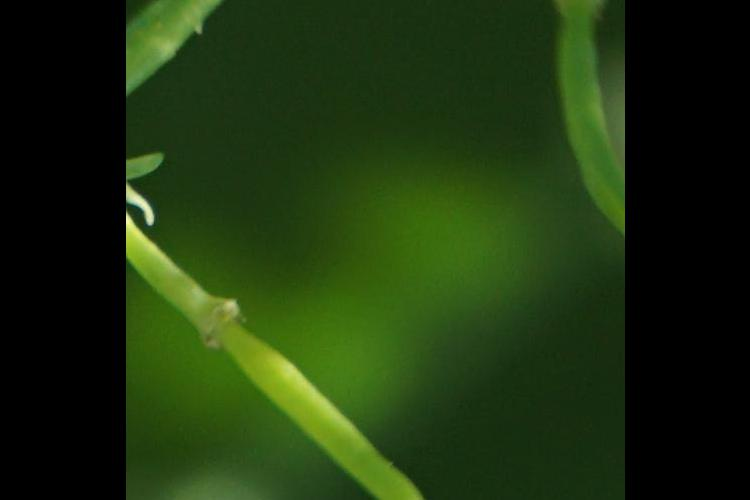pod: (178, 284, 492, 500)
